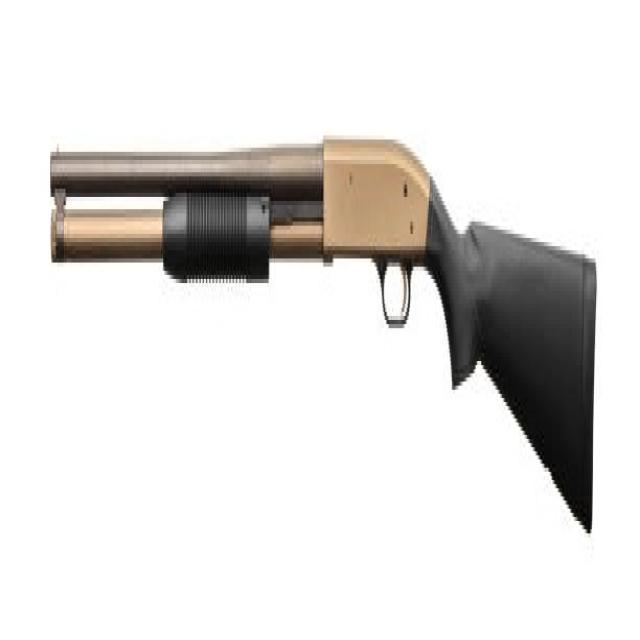rifle: (44, 126, 600, 572)
